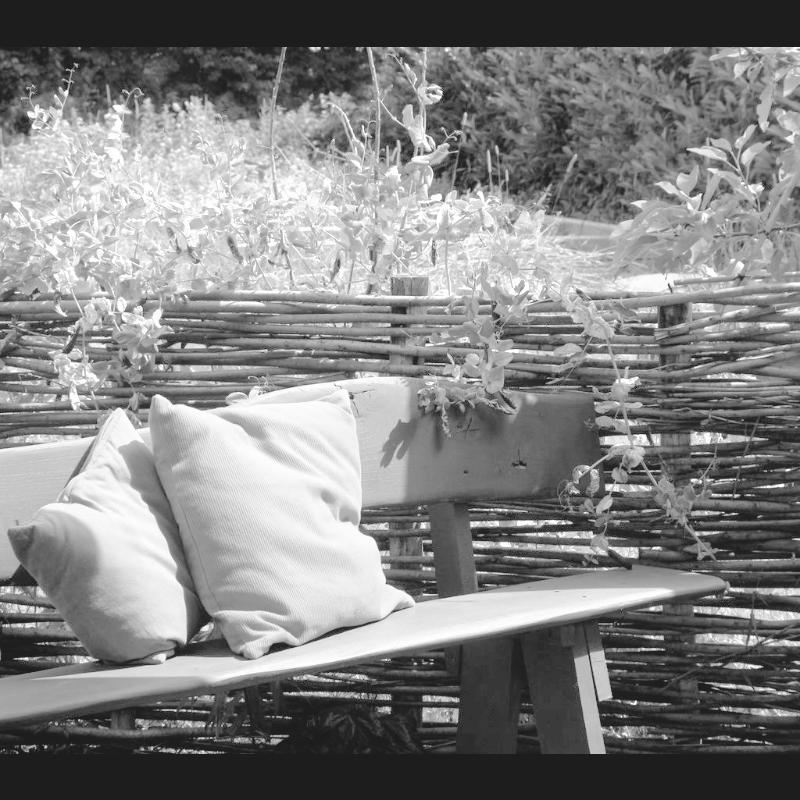pillow: (10, 406, 217, 666)
